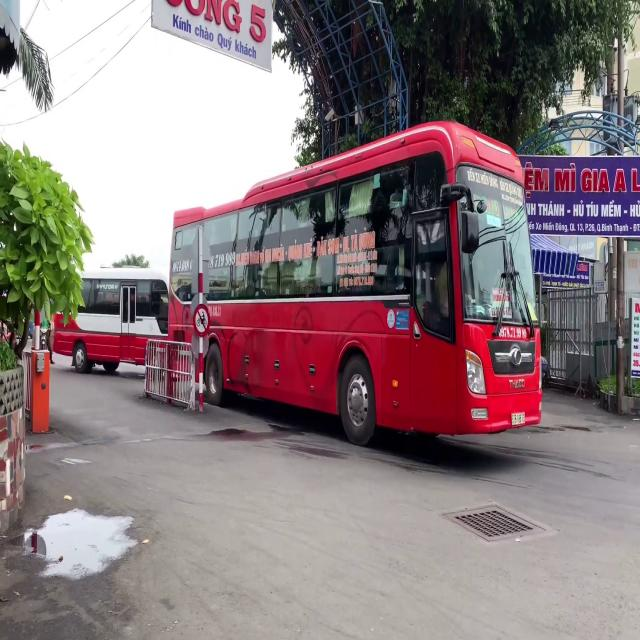bien_trang: (510, 412, 526, 426)
